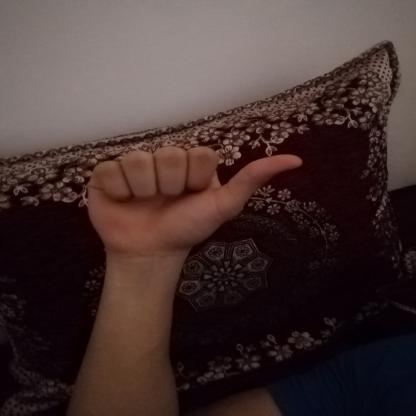DAD: (71, 134, 310, 262)
